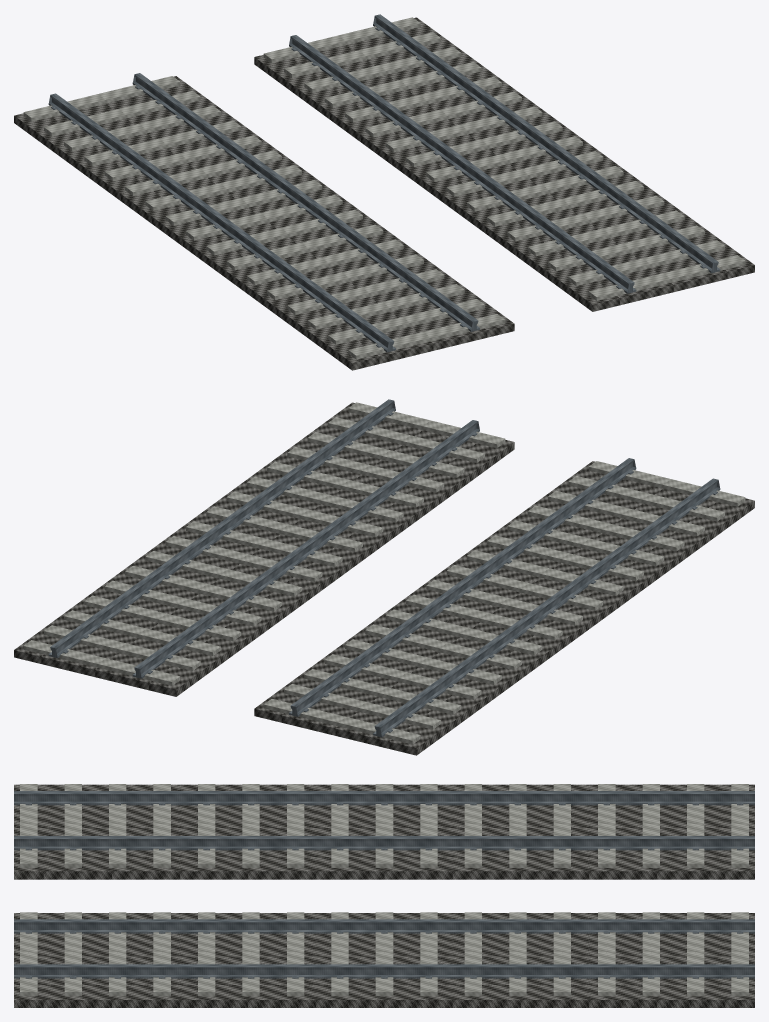
File: PZ_Metro_10m_DoubleTrack_And_Ballast.glb
3 views of the same model, one above another, from view 1: azimuth 30°, elevation 25°; view 2: azimuth 150°, elevation 25°; view 3: azimuth 270°, elevation 25° (orthographic). The views are drawn at different scales.
Parts seen in each view (by area): view 1: WEST_BallastStrip, EAST_BallastStrip, WEST_1435mm_RAIL_LEFT, WEST_1435mm_RAIL_RIGHT, EAST_1435mm_RAIL_LEFT, EAST_1435mm_RAIL_RIGHT, EAST_PrecastSleeper_01, WEST_PrecastSleeper_01, WEST_PrecastSleeper_17, EAST_PrecastSleeper_14, EAST_PrecastSleeper_11, WEST_PrecastSleeper_13 (+28 smaller); view 2: WEST_BallastStrip, EAST_BallastStrip, WEST_1435mm_RAIL_LEFT, WEST_1435mm_RAIL_RIGHT, EAST_1435mm_RAIL_LEFT, EAST_1435mm_RAIL_RIGHT, EAST_PrecastSleeper_17, WEST_PrecastSleeper_17, WEST_PrecastSleeper_01, EAST_PrecastSleeper_04, EAST_PrecastSleeper_07, WEST_PrecastSleeper_04 (+28 smaller); view 3: EAST_BallastStrip, WEST_BallastStrip, EAST_1435mm_RAIL_LEFT, EAST_1435mm_RAIL_RIGHT, WEST_1435mm_RAIL_LEFT, WEST_1435mm_RAIL_RIGHT, EAST_PrecastSleeper_09, WEST_PrecastSleeper_09, EAST_PrecastSleeper_01, EAST_PrecastSleeper_04, EAST_PrecastSleeper_06, EAST_PrecastSleeper_08 (+28 smaller).
Part boxes in pixels (x1,y1,x2,y2): WEST_BallastStrip: [14, 76, 514, 370]; EAST_BallastStrip: [254, 17, 754, 311]; WEST_1435mm_RAIL_LEFT: [48, 93, 395, 352]; WEST_1435mm_RAIL_RIGHT: [132, 73, 479, 331]; EAST_1435mm_RAIL_LEFT: [289, 35, 636, 293]; EAST_1435mm_RAIL_RIGHT: [373, 14, 720, 273]; EAST_PrecastSleeper_01: [588, 255, 745, 300]; WEST_PrecastSleeper_01: [348, 314, 505, 359]; WEST_PrecastSleeper_17: [23, 76, 180, 121]; EAST_PrecastSleeper_14: [324, 62, 481, 107]; EAST_PrecastSleeper_11: [385, 106, 542, 152]; WEST_PrecastSleeper_13: [104, 135, 261, 181]; WEST_BallastStrip: [254, 461, 754, 755]; EAST_BallastStrip: [14, 402, 514, 696]; WEST_1435mm_RAIL_LEFT: [373, 478, 720, 737]; WEST_1435mm_RAIL_RIGHT: [289, 458, 636, 716]; EAST_1435mm_RAIL_LEFT: [132, 420, 479, 678]; EAST_1435mm_RAIL_RIGHT: [48, 399, 395, 658]; EAST_PrecastSleeper_17: [23, 640, 180, 685]; WEST_PrecastSleeper_17: [263, 699, 420, 744]; WEST_PrecastSleeper_01: [588, 461, 745, 506]; EAST_PrecastSleeper_04: [287, 447, 444, 492]; EAST_PrecastSleeper_07: [226, 491, 383, 537]; WEST_PrecastSleeper_04: [527, 505, 684, 551]; EAST_BallastStrip: [14, 913, 754, 1007]; WEST_BallastStrip: [14, 784, 754, 879]; EAST_1435mm_RAIL_LEFT: [14, 919, 754, 933]; EAST_1435mm_RAIL_RIGHT: [14, 964, 754, 978]; WEST_1435mm_RAIL_LEFT: [14, 791, 754, 805]; WEST_1435mm_RAIL_RIGHT: [14, 836, 754, 850]; EAST_PrecastSleeper_09: [375, 912, 393, 996]; WEST_PrecastSleeper_09: [375, 784, 393, 867]; EAST_PrecastSleeper_01: [20, 912, 37, 996]; EAST_PrecastSleeper_04: [153, 912, 170, 996]; EAST_PrecastSleeper_06: [242, 912, 259, 996]; EAST_PrecastSleeper_08: [331, 912, 348, 996].
Bounding box in the file's own units: 6.87 × 0.315 × 10.
Materials: 4 (4 with a texture image).
